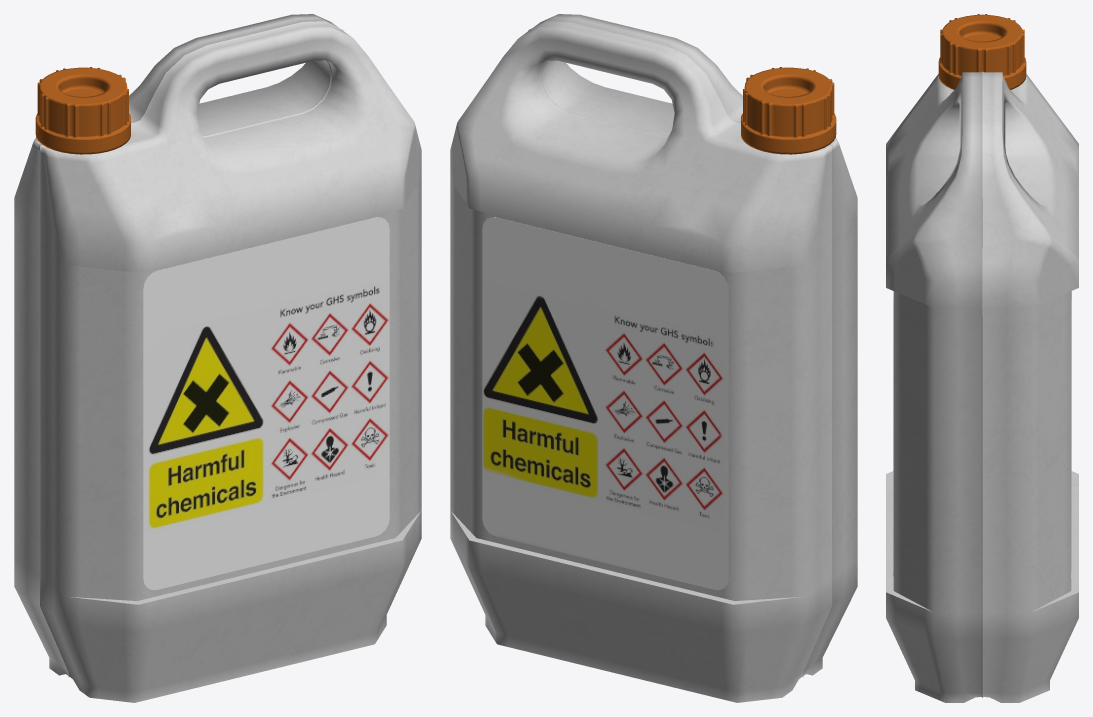
The model's file is SM_Chemical.fbx.
3 renders of one model, left to right at view 1: azimuth 30°, elevation 25°; view 2: azimuth 150°, elevation 25°; view 3: azimuth 270°, elevation 25°, orthographic. The views are drawn at different scales.
Parts seen in each view (by area): view 1: Kap2; view 2: Kap2; view 3: Kap2.
Boxes of the visible parts, bbox=[...] form: Kap2: bbox=[14, 14, 421, 702]; Kap2: bbox=[450, 14, 857, 702]; Kap2: bbox=[886, 14, 1078, 702].
Bounding box in the file's own units: 15.93 × 25.81 × 8.14.
Materials: 1 (1 with a texture image).
